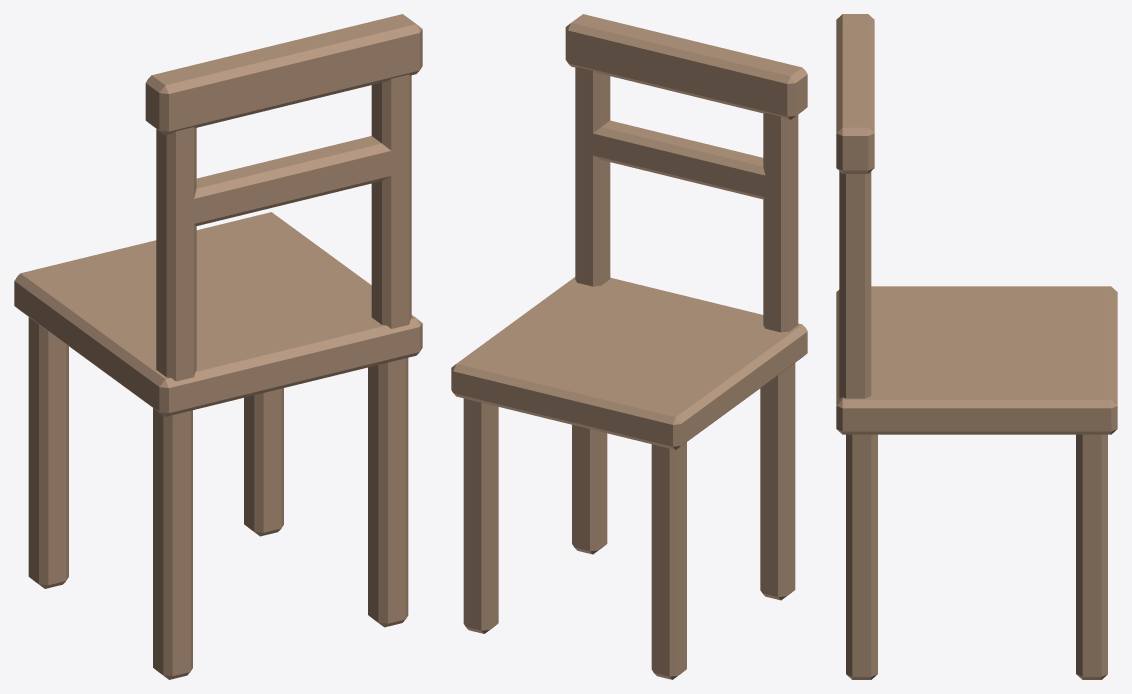
File: SM_Dining_Chair_01.fbx
3 renders of one model, left to right at view 1: azimuth 30°, elevation 25°; view 2: azimuth 150°, elevation 25°; view 3: azimuth 270°, elevation 25°, orthographic. The views are drawn at different scales.
Parts seen in each view (by area): view 1: Dining_Chair_01; view 2: Dining_Chair_01; view 3: Dining_Chair_01.
Part boxes in pixels (box(x1,y1,x2,y2)): Dining_Chair_01: box(14, 14, 422, 679); Dining_Chair_01: box(451, 14, 807, 679); Dining_Chair_01: box(836, 14, 1117, 679).
Size of the model in its own units: 44 by 96 by 44.
